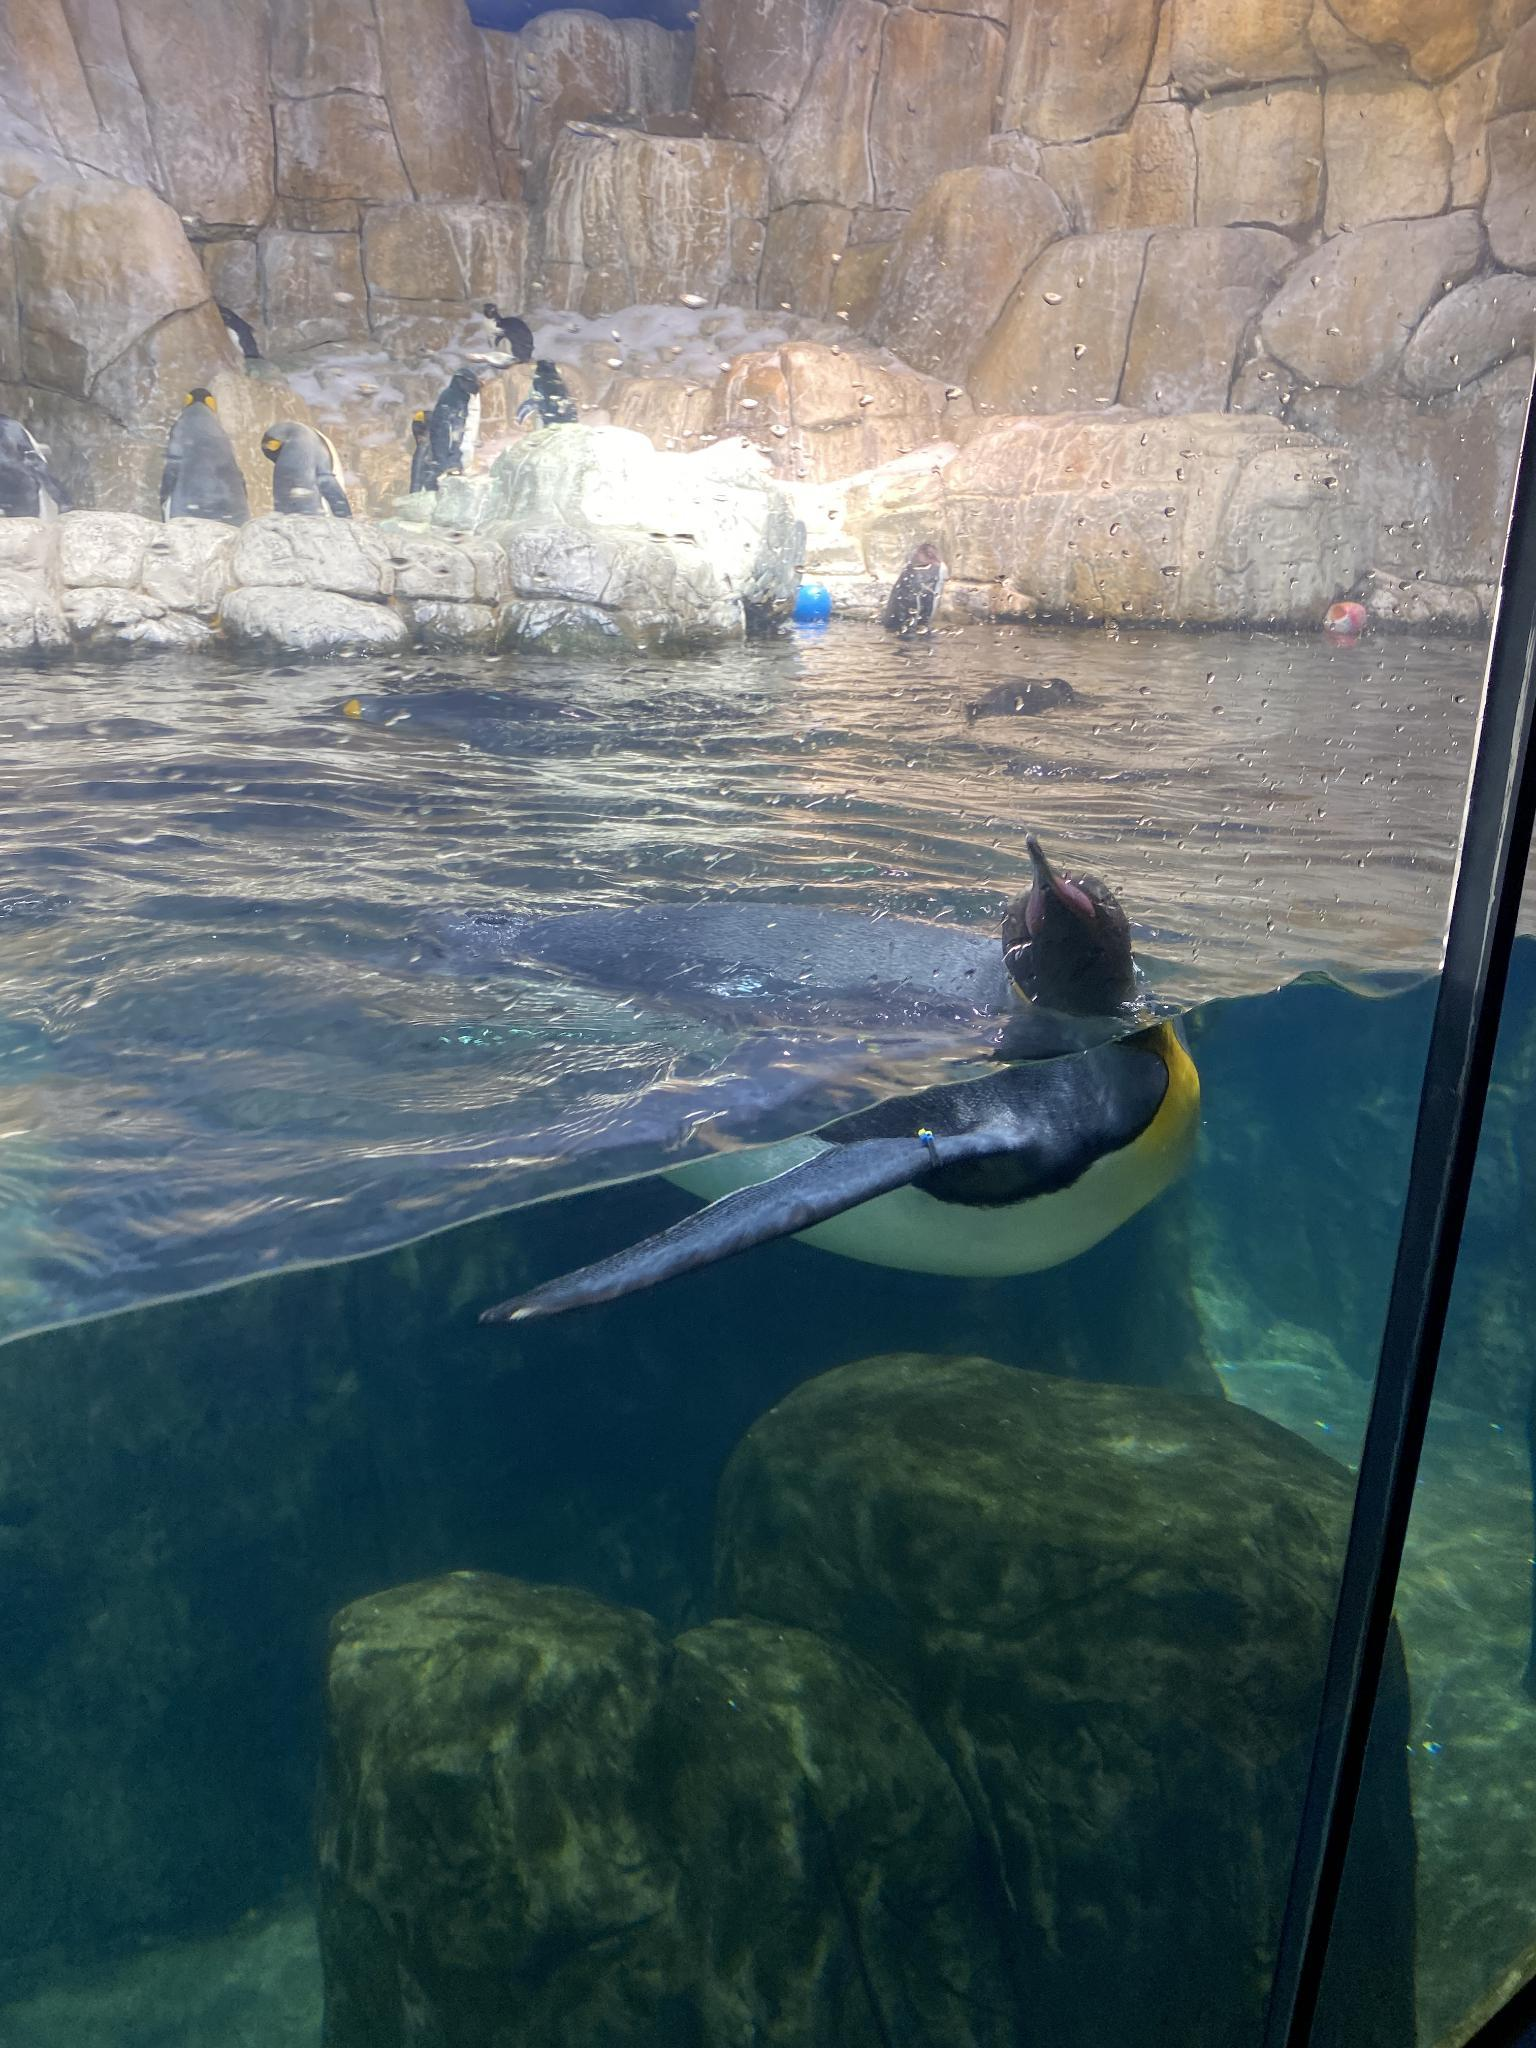penguin: (563, 835, 1207, 1308), (287, 668, 758, 789), (136, 389, 260, 543), (261, 419, 360, 529), (0, 411, 69, 518), (508, 348, 586, 439), (395, 392, 452, 506), (437, 364, 484, 485), (486, 295, 549, 377)
